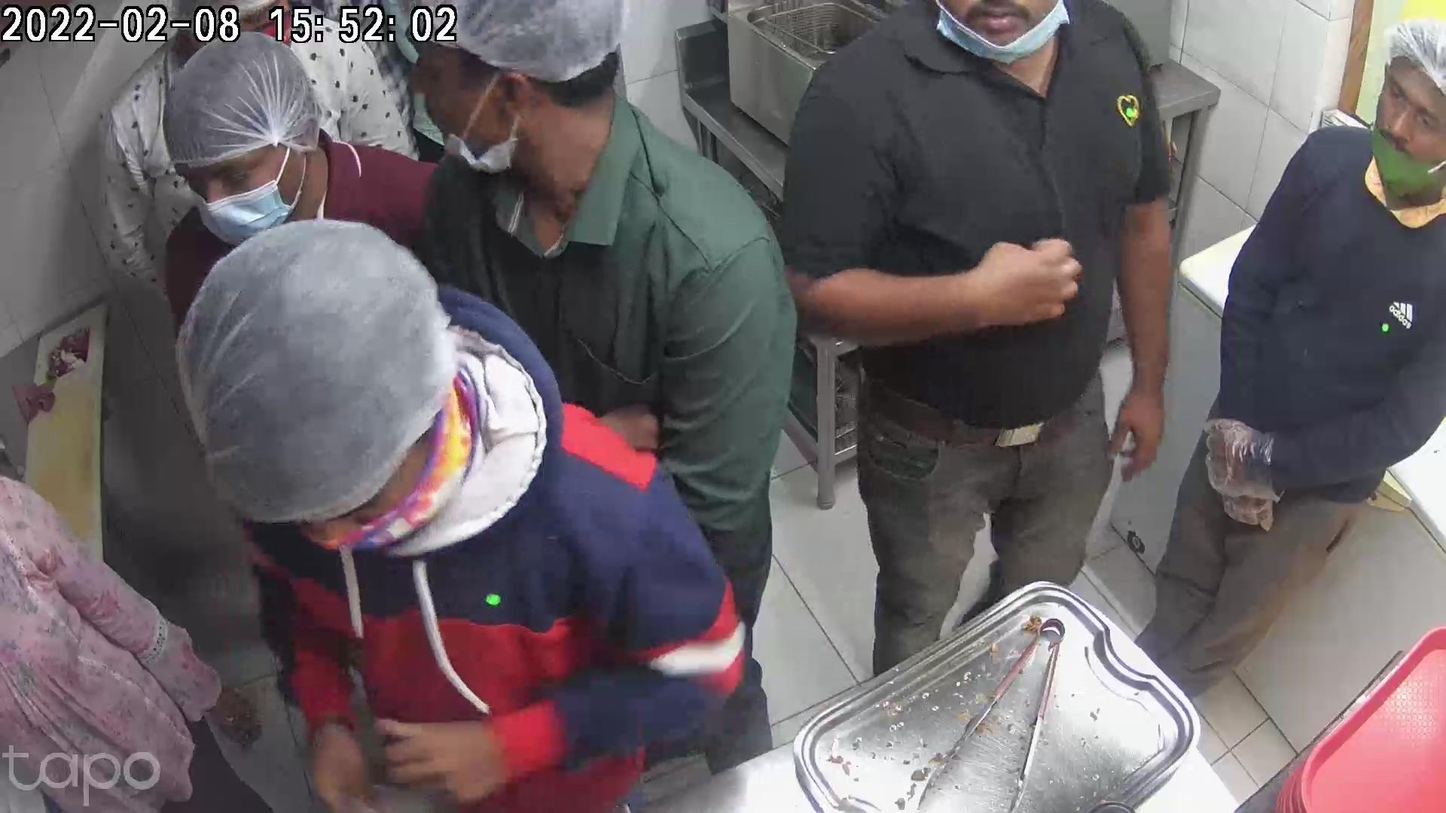no_gloves: (934, 241, 1082, 330)
